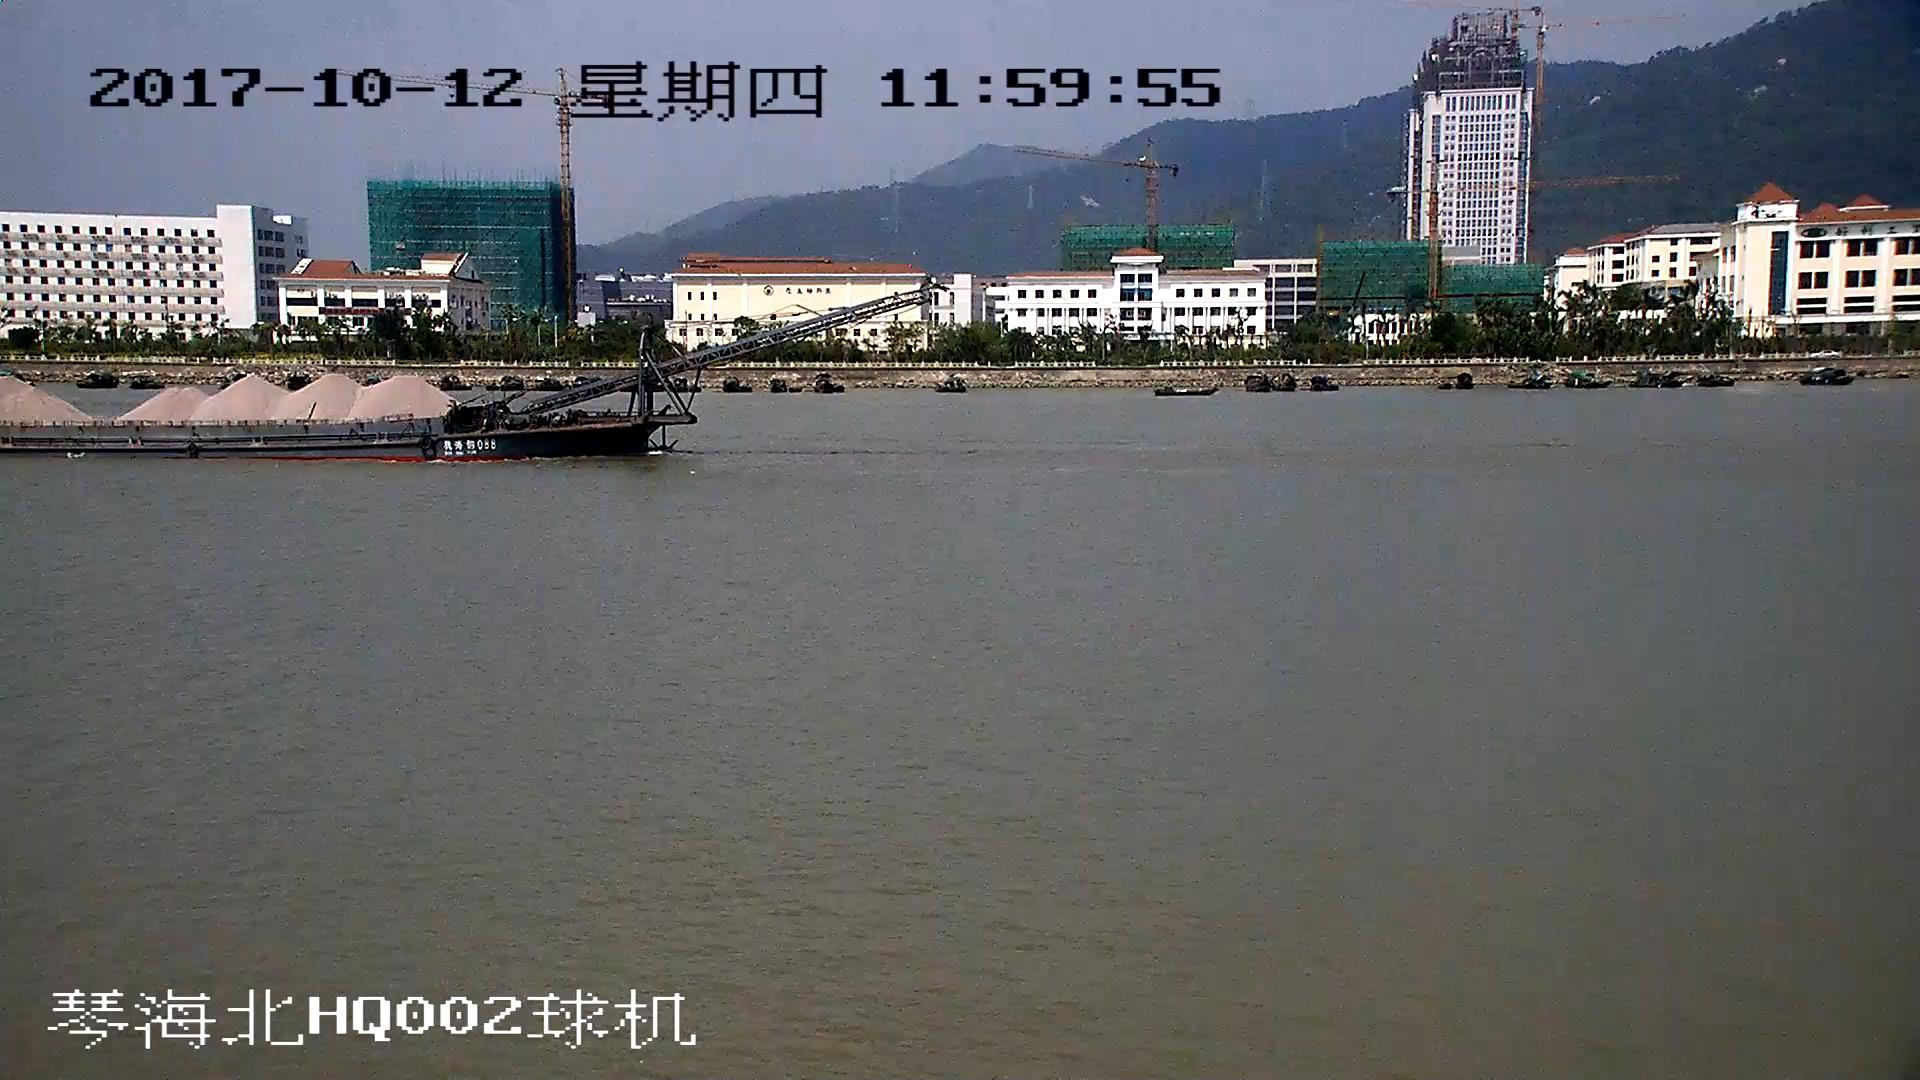Ship: (3, 286, 934, 460)
